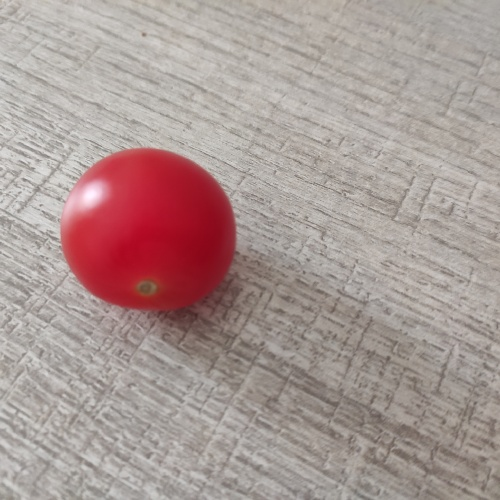pomodoro: (57, 145, 238, 321)
